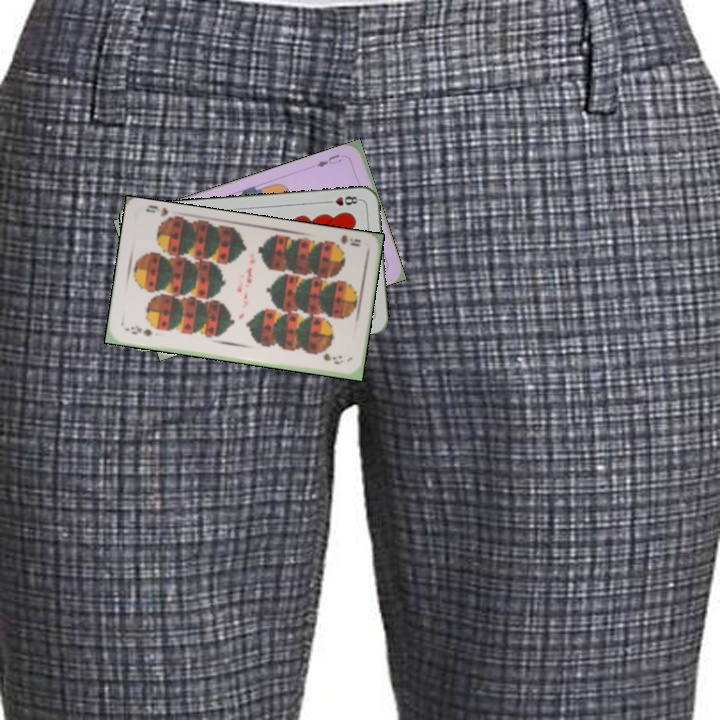EU: (312, 150, 344, 170)
H8: (322, 192, 363, 208)
S9: (325, 231, 363, 251), (127, 322, 155, 339)
